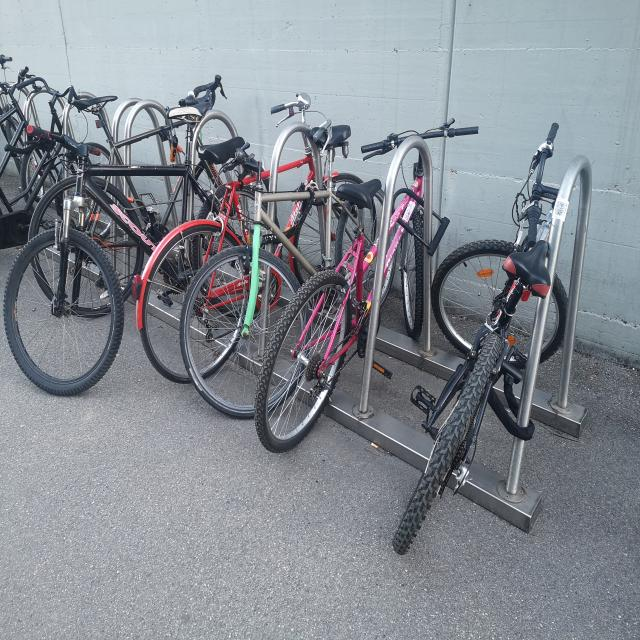Bicycle: (258, 98, 486, 481), (413, 132, 613, 568), (183, 82, 412, 429), (141, 47, 350, 390), (14, 142, 257, 380), (30, 154, 237, 301), (0, 75, 118, 239)
